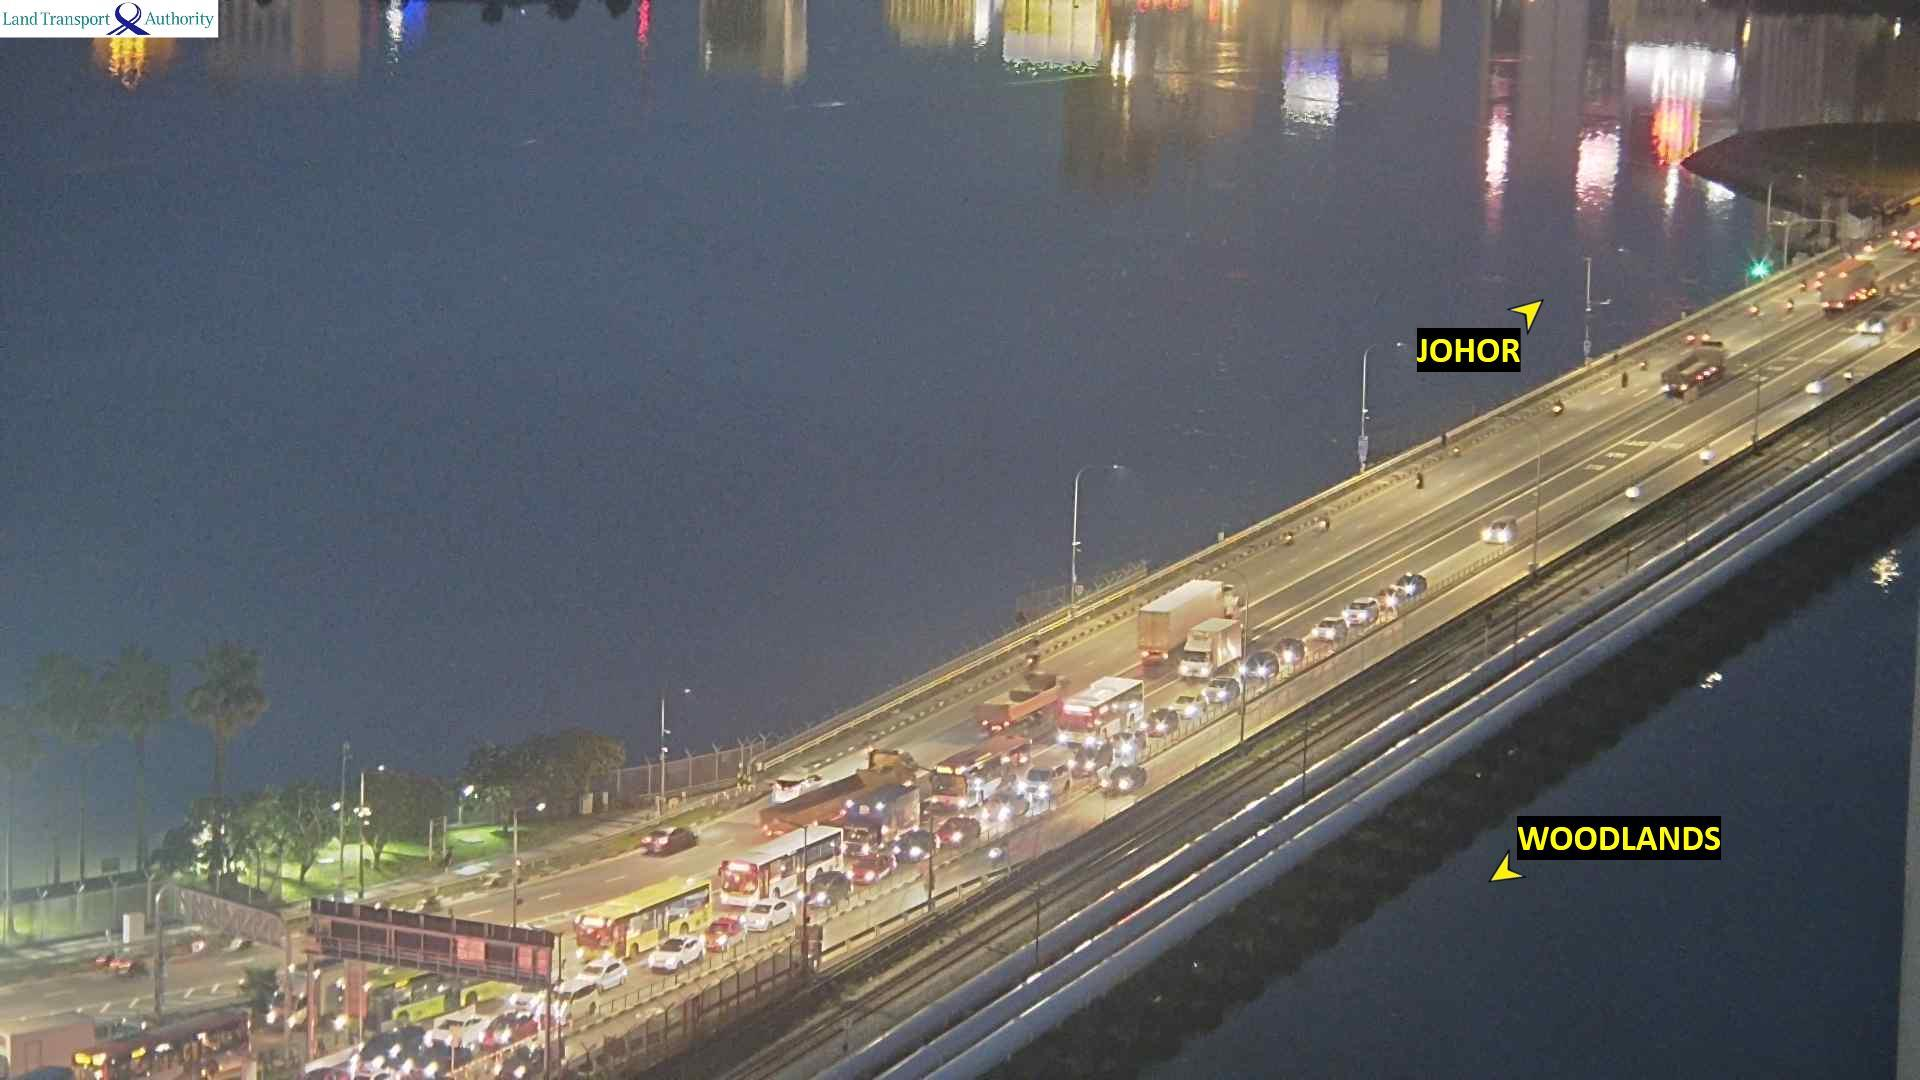vehicle-causeway-johor: (762, 753, 915, 833), (1139, 579, 1241, 663), (976, 675, 1064, 733), (1663, 345, 1726, 397), (1822, 260, 1875, 311), (640, 827, 699, 853), (773, 771, 818, 798), (189, 932, 252, 951), (98, 952, 144, 977), (1026, 636, 1043, 671), (1615, 372, 1629, 389), (1319, 517, 1331, 534), (1701, 330, 1713, 343), (1415, 472, 1424, 488), (1283, 530, 1292, 545), (1750, 305, 1760, 316), (1797, 280, 1805, 294), (1555, 401, 1564, 411), (1687, 331, 1695, 342), (1787, 299, 1793, 311), (1640, 361, 1647, 371)
vehicle-causeway-singapore: (71, 1013, 251, 1080), (339, 969, 504, 1035), (574, 882, 712, 947), (716, 828, 848, 893), (932, 738, 1029, 804), (0, 1013, 94, 1079), (270, 961, 344, 1030), (837, 787, 926, 843), (1058, 679, 1142, 727), (1180, 620, 1242, 678), (355, 1023, 419, 1071), (396, 1047, 469, 1080), (550, 982, 599, 1022), (644, 940, 704, 971), (425, 1014, 488, 1043), (487, 1011, 538, 1046), (737, 902, 795, 930), (489, 1047, 541, 1077), (1025, 761, 1067, 795), (803, 874, 848, 906), (939, 814, 981, 845), (893, 832, 935, 862), (851, 855, 894, 884), (1069, 741, 1109, 770), (708, 920, 742, 953), (1105, 766, 1147, 791), (1158, 698, 1204, 719), (583, 959, 630, 978), (1110, 729, 1146, 756), (1241, 654, 1278, 675), (1485, 518, 1516, 542), (1342, 604, 1382, 622), (1147, 709, 1176, 735), (1203, 678, 1237, 699), (1273, 637, 1303, 661), (1312, 617, 1348, 637), (1398, 574, 1427, 595), (1858, 319, 1886, 334), (1377, 592, 1398, 608), (1805, 380, 1822, 397), (1700, 444, 1714, 463), (1626, 483, 1639, 500), (1846, 371, 1855, 382)
